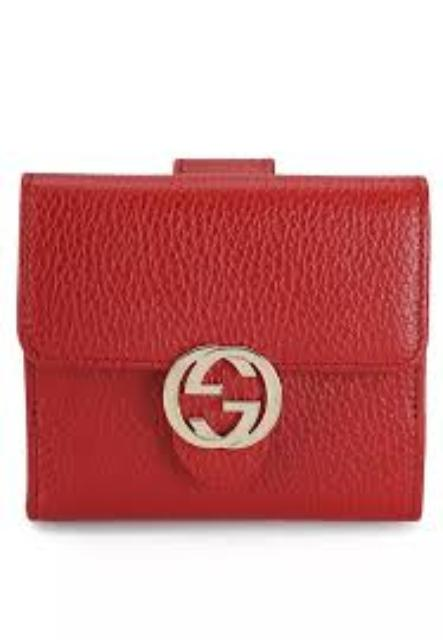Gucci: (156, 319, 300, 455)
